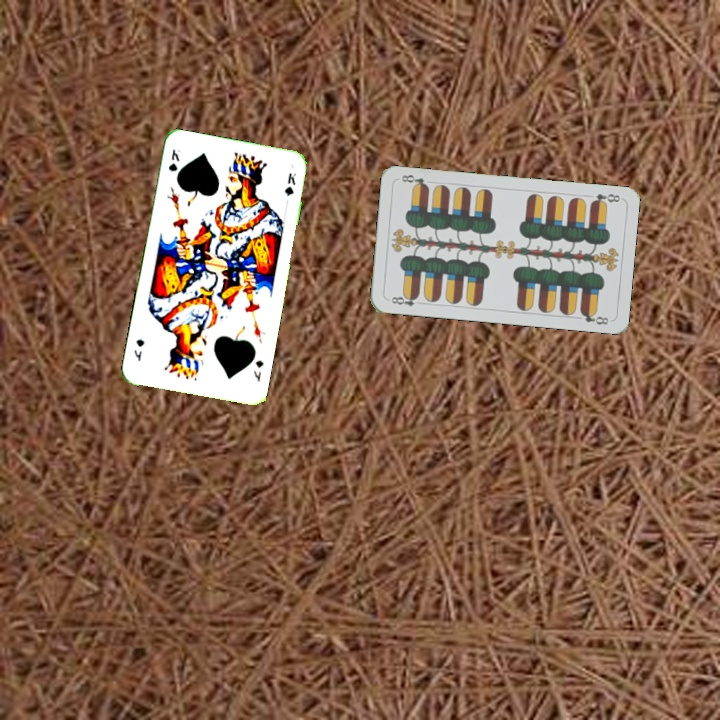E8: (387, 291, 425, 309), (587, 190, 623, 208)
GK: (165, 145, 183, 174), (250, 356, 266, 384)
